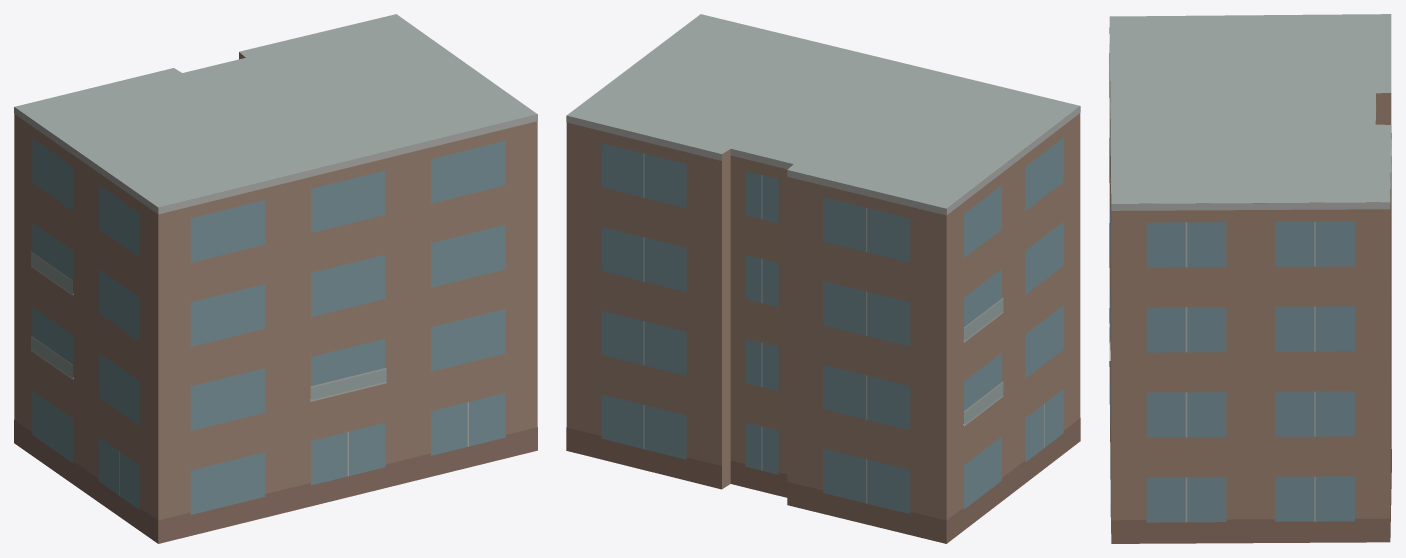
The model's file is survey-upis-32520150.glb.
The picture shows the model from 3 angles, left to right: view 1: azimuth 30°, elevation 25°; view 2: azimuth 150°, elevation 25°; view 3: azimuth 270°, elevation 25°; orthographic projection.
Parts seen in each view (by area): view 1: survey-upis-32520150.tmp; view 2: survey-upis-32520150.tmp; view 3: survey-upis-32520150.tmp.
Boxes of the visible parts, bbox=[...] form: survey-upis-32520150.tmp: bbox=[14, 14, 537, 543]; survey-upis-32520150.tmp: bbox=[566, 14, 1080, 543]; survey-upis-32520150.tmp: bbox=[1109, 14, 1391, 543].
Bounding box in the file's own units: 14.38 × 11.98 × 9.04.
